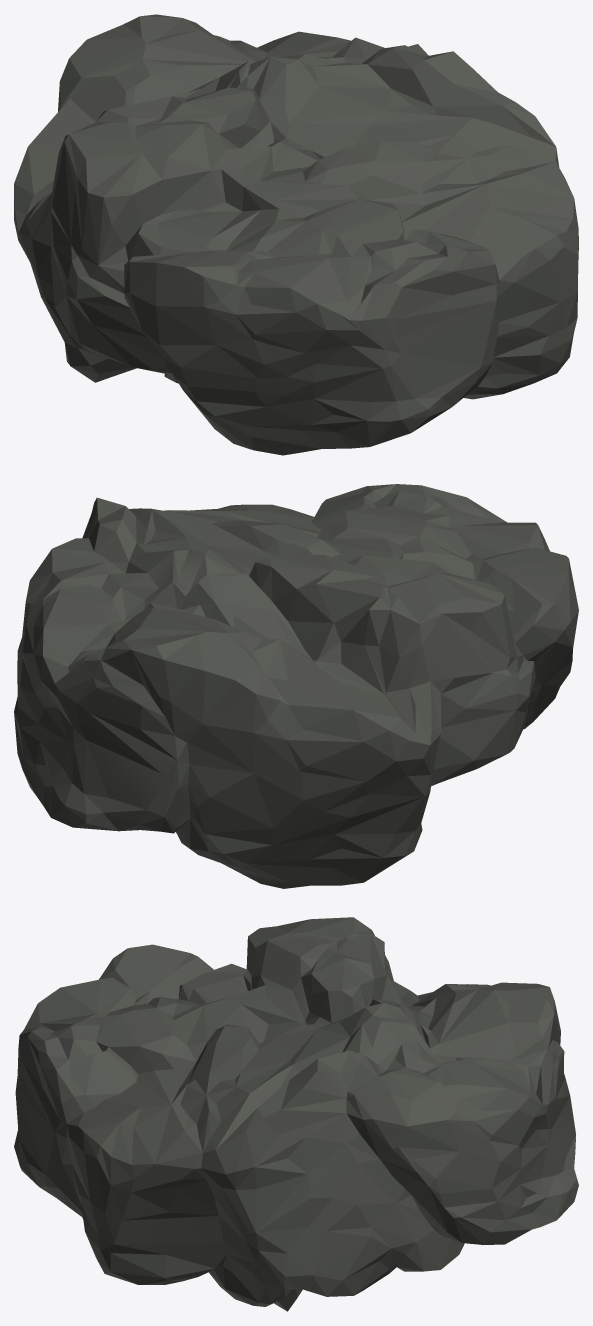
The model's file is Rock_Cliff_04.fbx.
The picture shows the model from 3 angles, top to bottom: view 1: azimuth 30°, elevation 25°; view 2: azimuth 150°, elevation 25°; view 3: azimuth 270°, elevation 25°; orthographic projection. The views are drawn at different scales.
Visible parts, largest first — view 1: Rock_Cliff_04; view 2: Rock_Cliff_04; view 3: Rock_Cliff_04.
Part boxes in pixels (x1,y1,x2,y2): Rock_Cliff_04: (14, 14, 578, 455); Rock_Cliff_04: (14, 484, 578, 888); Rock_Cliff_04: (14, 917, 578, 1311).
Bounding box in the file's own units: 1662 × 978 × 1948.
Materials: 1 (1 with a texture image).
